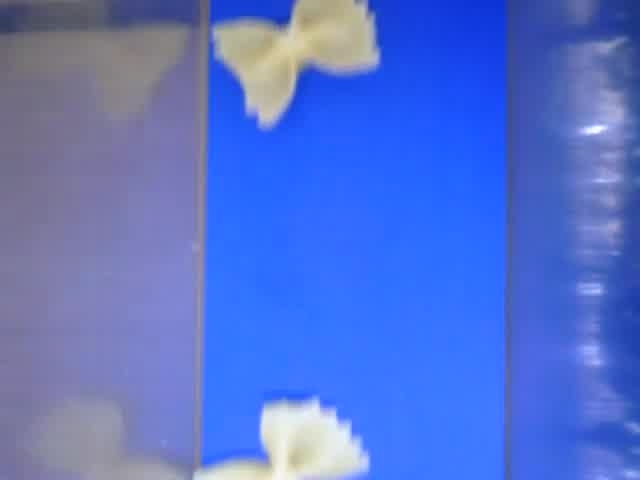farfalle: (211, 1, 382, 131), (193, 397, 370, 480)
